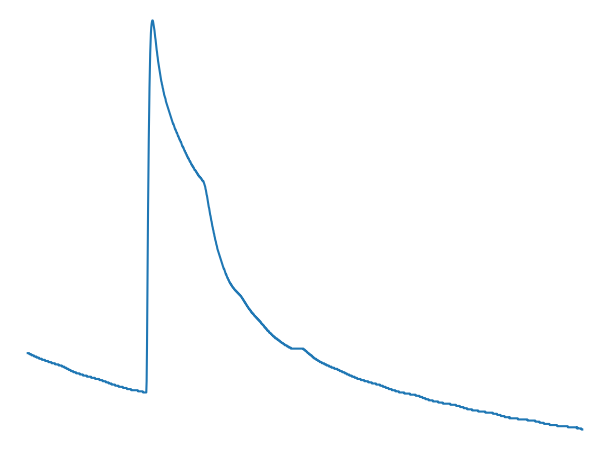decrease: (189, 148, 216, 199)
increase: (126, 369, 156, 400)
